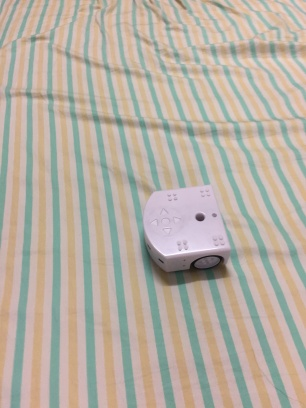thymio: (132, 183, 236, 280)
